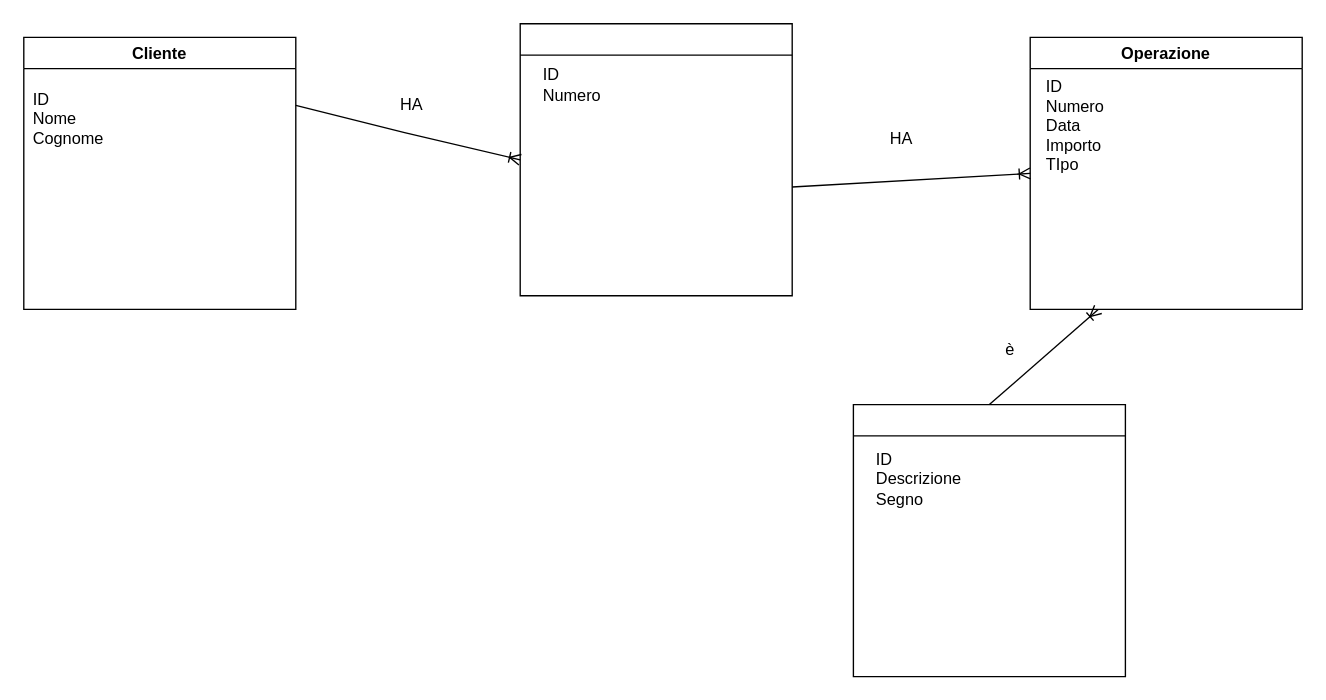
Some shapes in this 1326 by 700 pixel diagram are drawn without their labels. The box of each missing label's shape, as (x1, y1, x2, y2) in pixels:
Conto: (519, 22, 792, 296)
OperazioneTIpo: (852, 403, 1125, 677)
